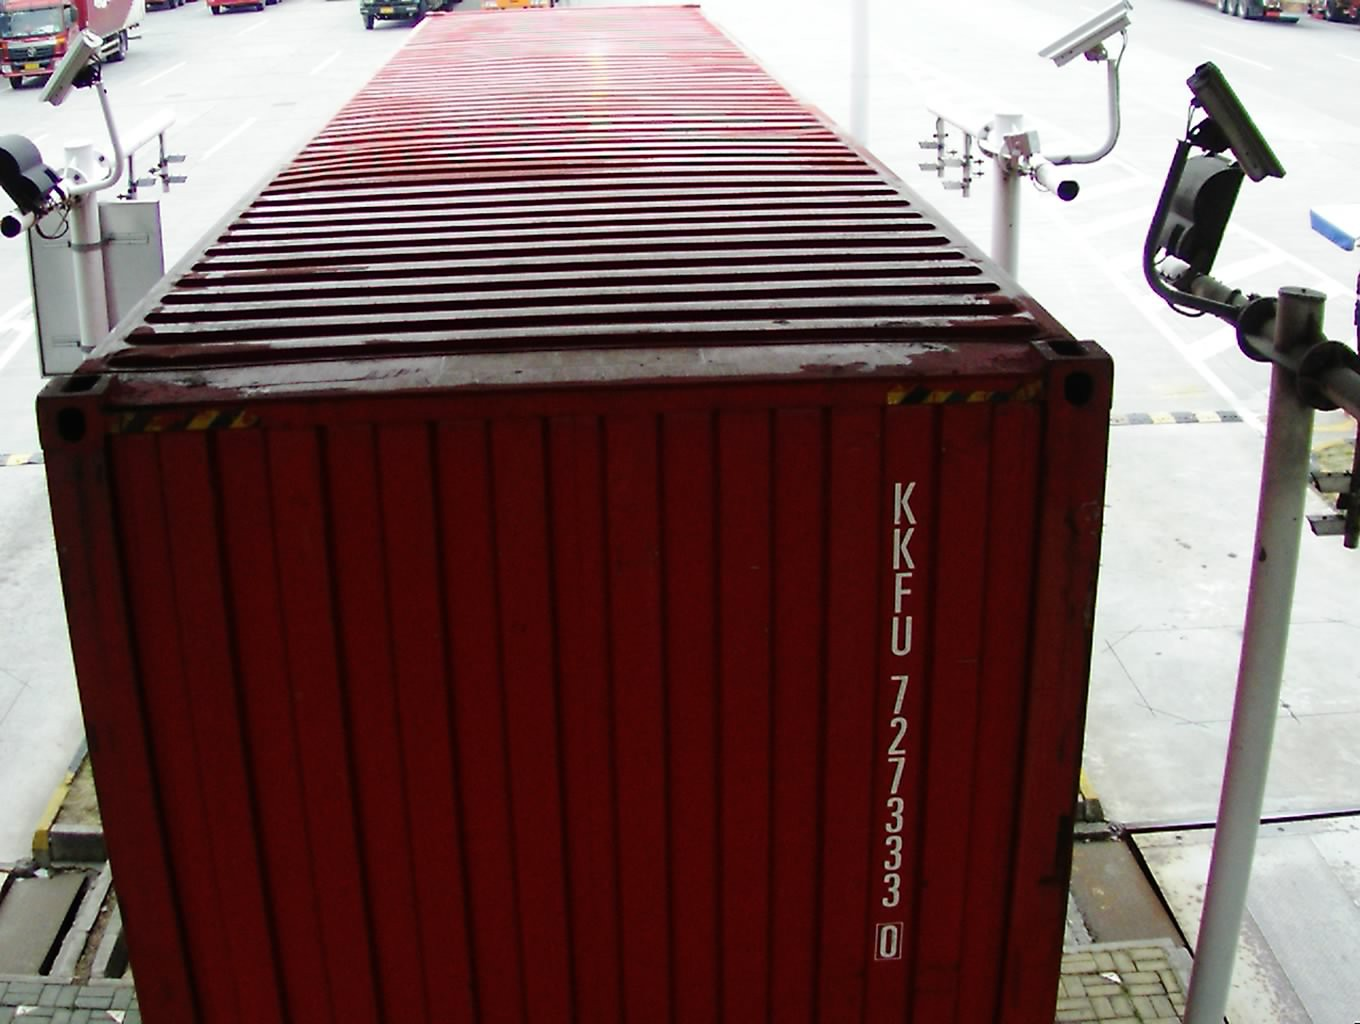words: (868, 474, 922, 965)
